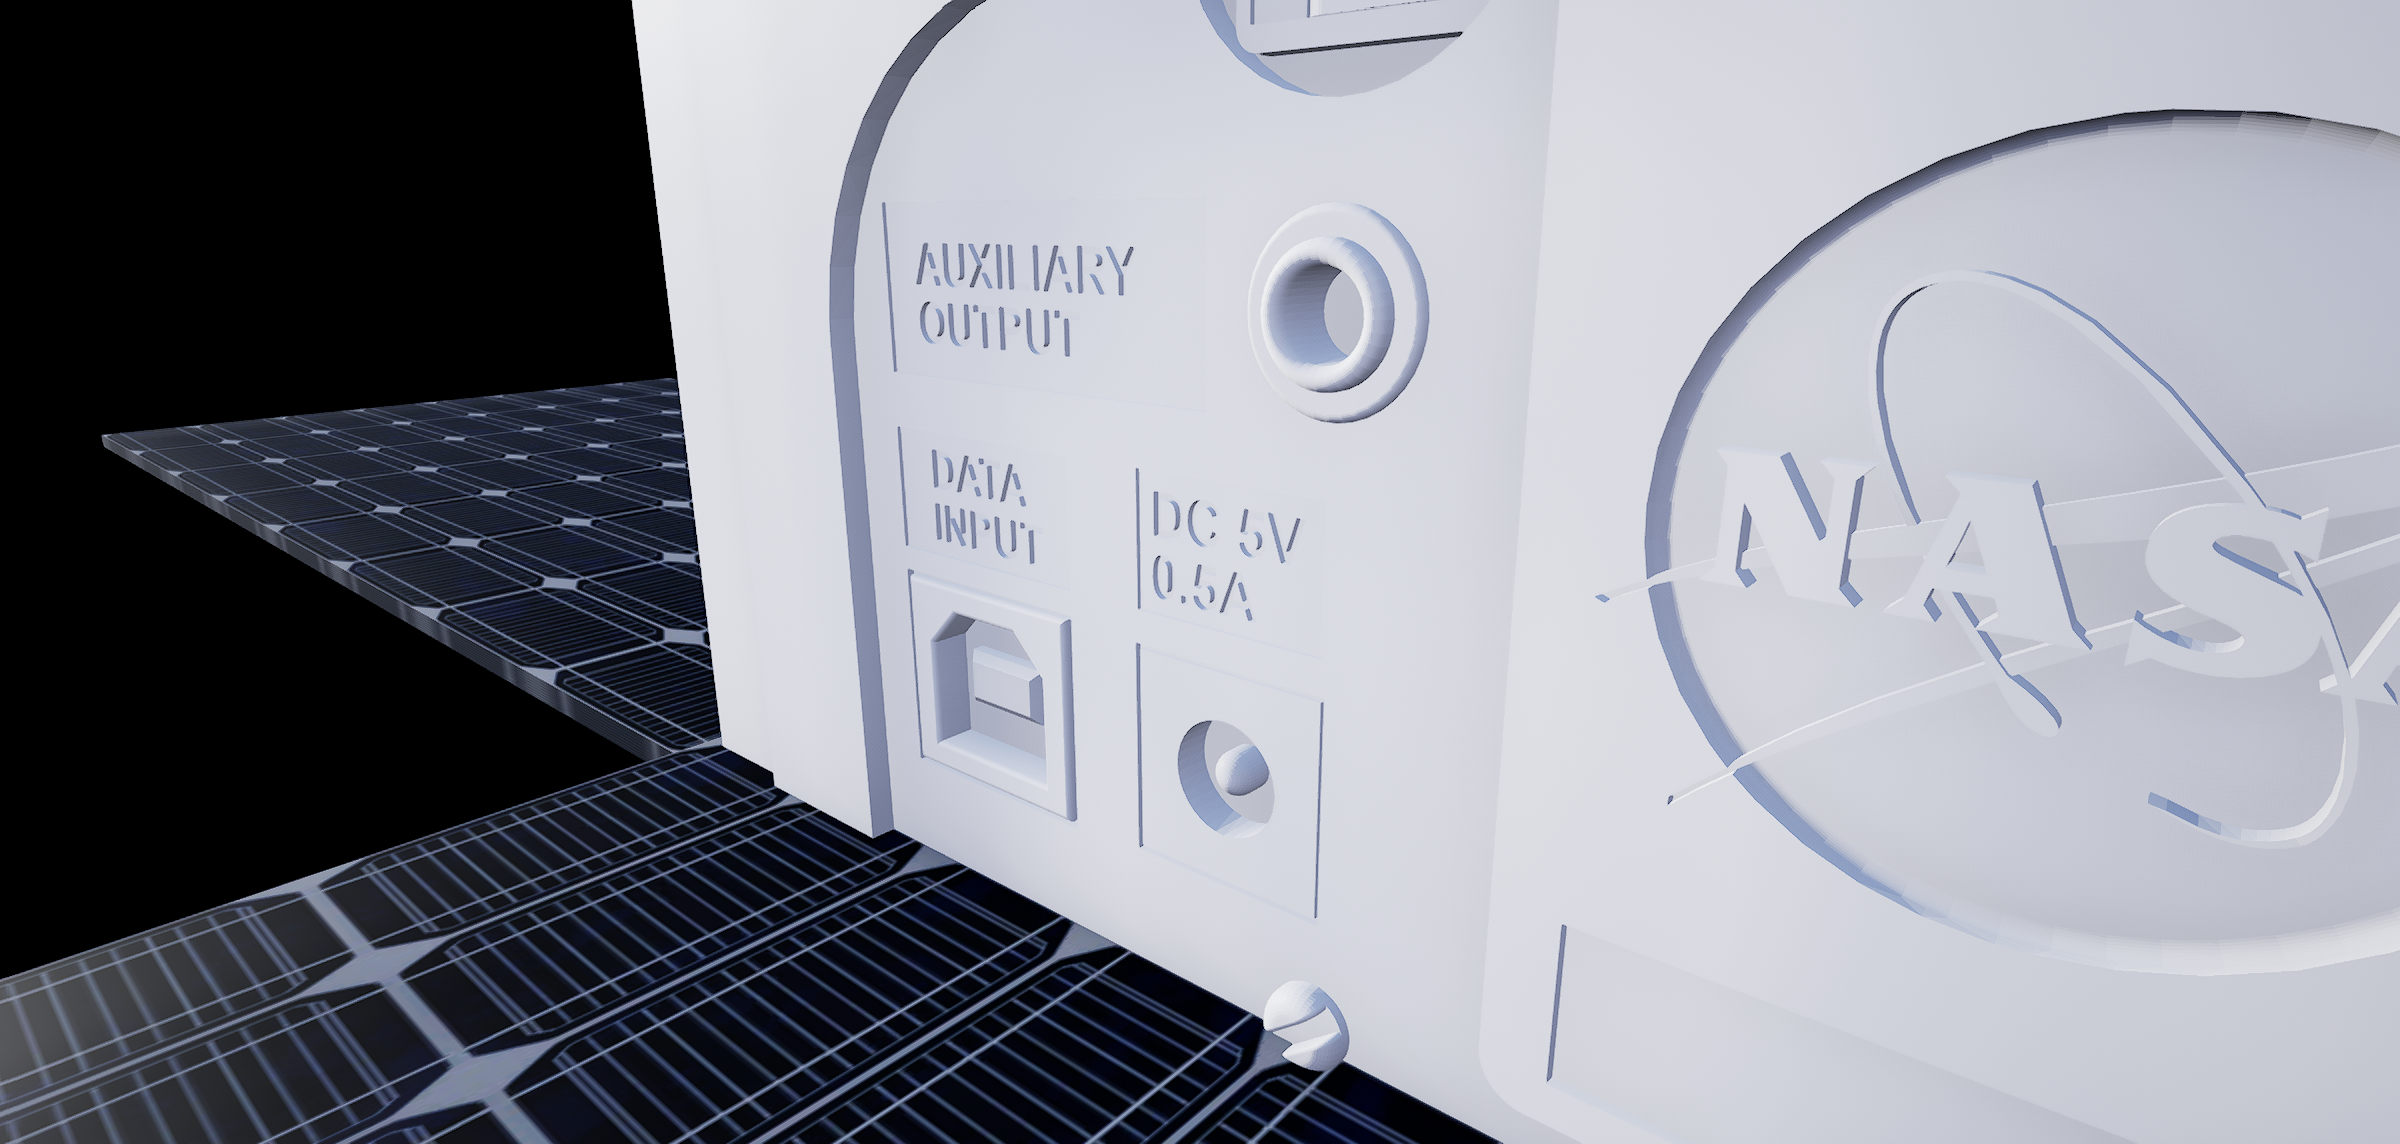aux: (1237, 190, 1445, 440)
dc: (1165, 701, 1290, 855)
usb: (923, 600, 1061, 799)
